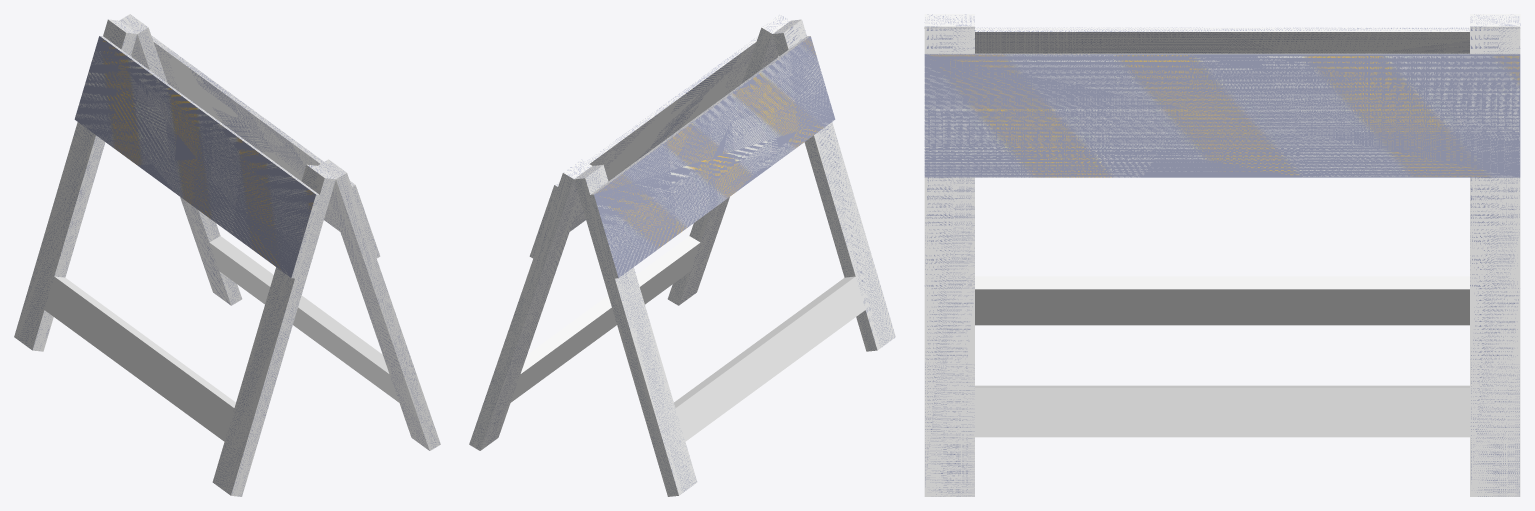
The model's file is Transenna.fbx.
3 views of the same model, side by side, from view 1: azimuth 30°, elevation 25°; view 2: azimuth 150°, elevation 25°; view 3: azimuth 270°, elevation 25° (orthographic). The views are drawn at different scales.
Visible parts, largest first — view 1: Group2, Component_1_1, Group1, Component_1_2, Component_1_4, Group4, Group3, Component_1_3; view 2: Group2, Component_1_2, Group1, Component_1_1, Component_1_3, Group4, Group3, Component_1_4; view 3: Group4, Group3, Group1, Component_1_3, Component_1_4, Group2, Component_1_1, Component_1_2.
Part boxes in pixels (box(x1,y1,x2,y2)): Group2: box(74, 36, 319, 278); Component_1_1: box(212, 164, 335, 496); Group1: box(44, 276, 235, 441); Component_1_2: box(14, 19, 137, 351); Component_1_4: box(318, 159, 440, 450); Group4: box(151, 35, 380, 258); Group3: box(209, 236, 398, 402); Component_1_3: box(119, 14, 242, 305); Group2: box(590, 36, 835, 278); Component_1_2: box(574, 164, 697, 496); Group1: box(674, 276, 865, 441); Component_1_1: box(772, 19, 895, 351); Component_1_3: box(469, 159, 591, 450); Group4: box(529, 35, 758, 258); Group3: box(510, 236, 700, 402); Component_1_4: box(667, 14, 790, 305); Group4: box(924, 53, 1520, 177); Group3: box(975, 385, 1469, 437); Group1: box(975, 276, 1469, 325); Component_1_3: box(1470, 26, 1520, 496); Component_1_4: box(924, 26, 974, 496); Group2: box(975, 27, 1469, 53); Component_1_1: box(924, 14, 975, 26); Component_1_2: box(1470, 14, 1520, 26).
Bounding box in the file's own units: 0.6819 × 0.9264 × 1.22.
